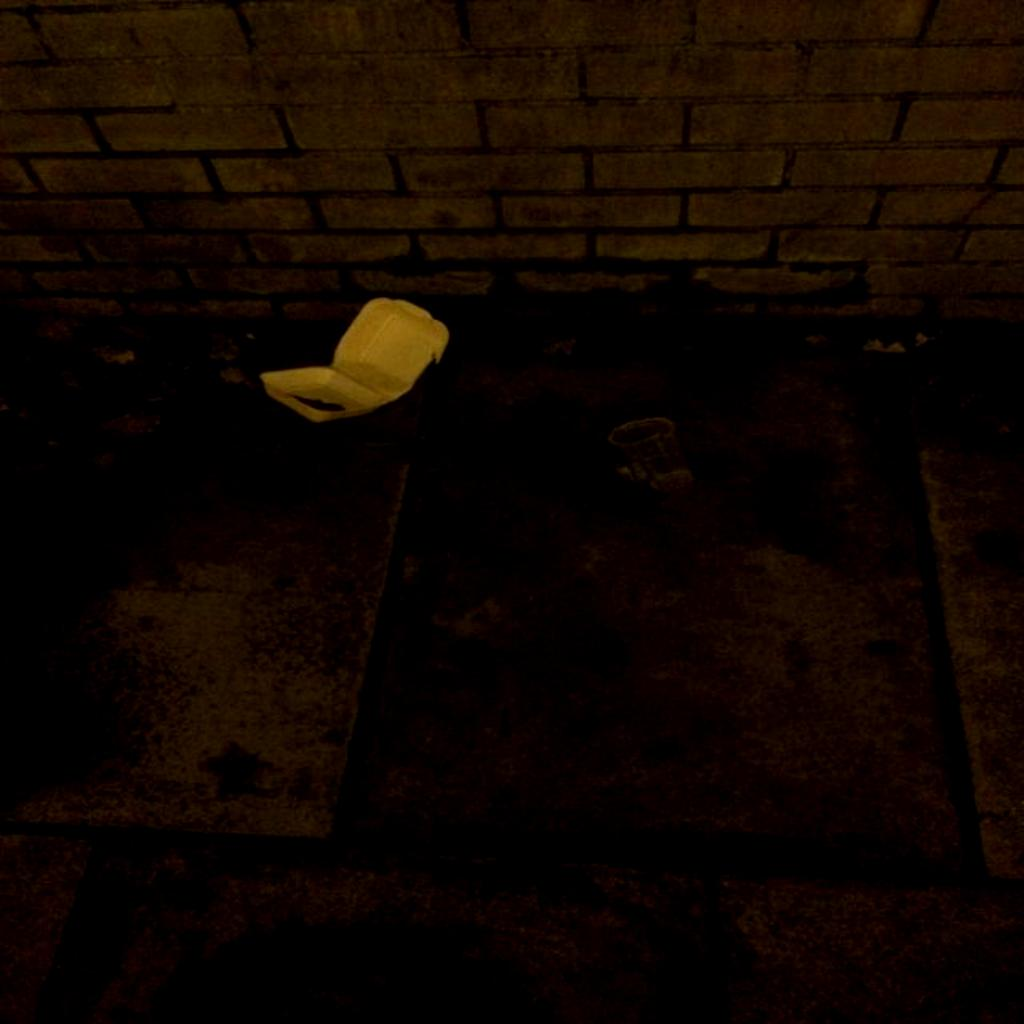garbage: (250, 292, 458, 436), (606, 413, 695, 496)
